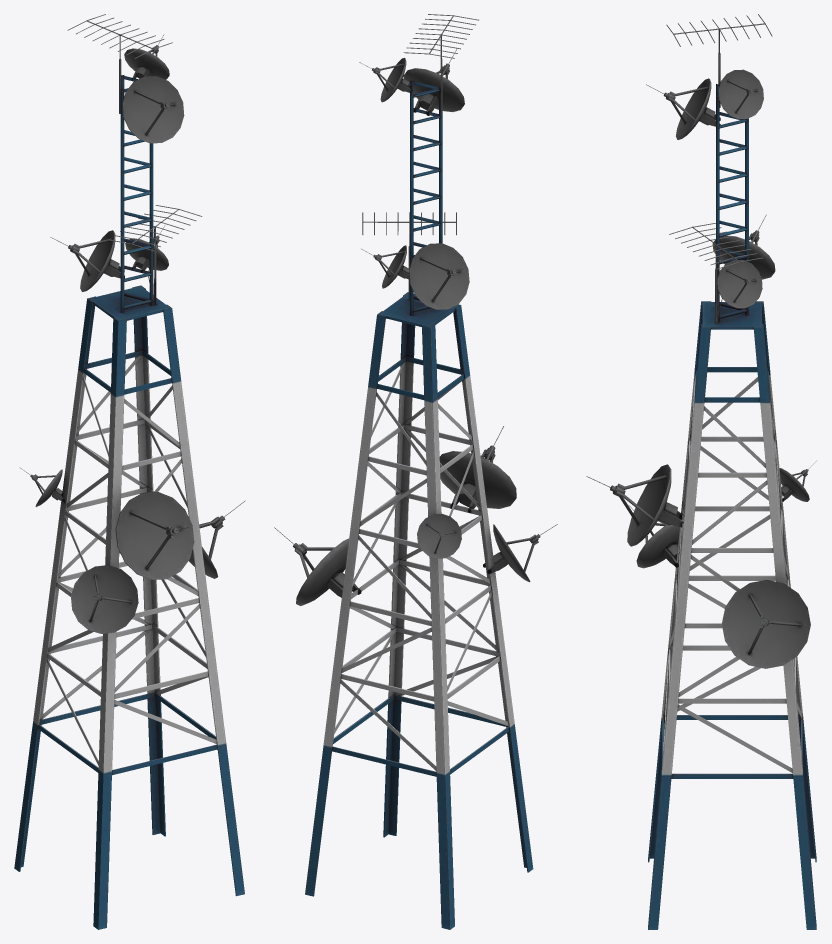
3 renders of one model, left to right at view 1: azimuth 30°, elevation 25°; view 2: azimuth 150°, elevation 25°; view 3: azimuth 270°, elevation 25°, orthographic.
Visible parts, largest first — view 1: body0_model0_lod0_mesh0; view 2: body0_model0_lod0_mesh0; view 3: body0_model0_lod0_mesh0.
Boxes of the visible parts, box(x1,y1,x2,y2) form: body0_model0_lod0_mesh0: box(14, 14, 245, 929); body0_model0_lod0_mesh0: box(274, 14, 557, 929); body0_model0_lod0_mesh0: box(586, 14, 816, 929).
Size of the model in its own units: 408 by 1516 by 370.
1 material, 1 textured.
